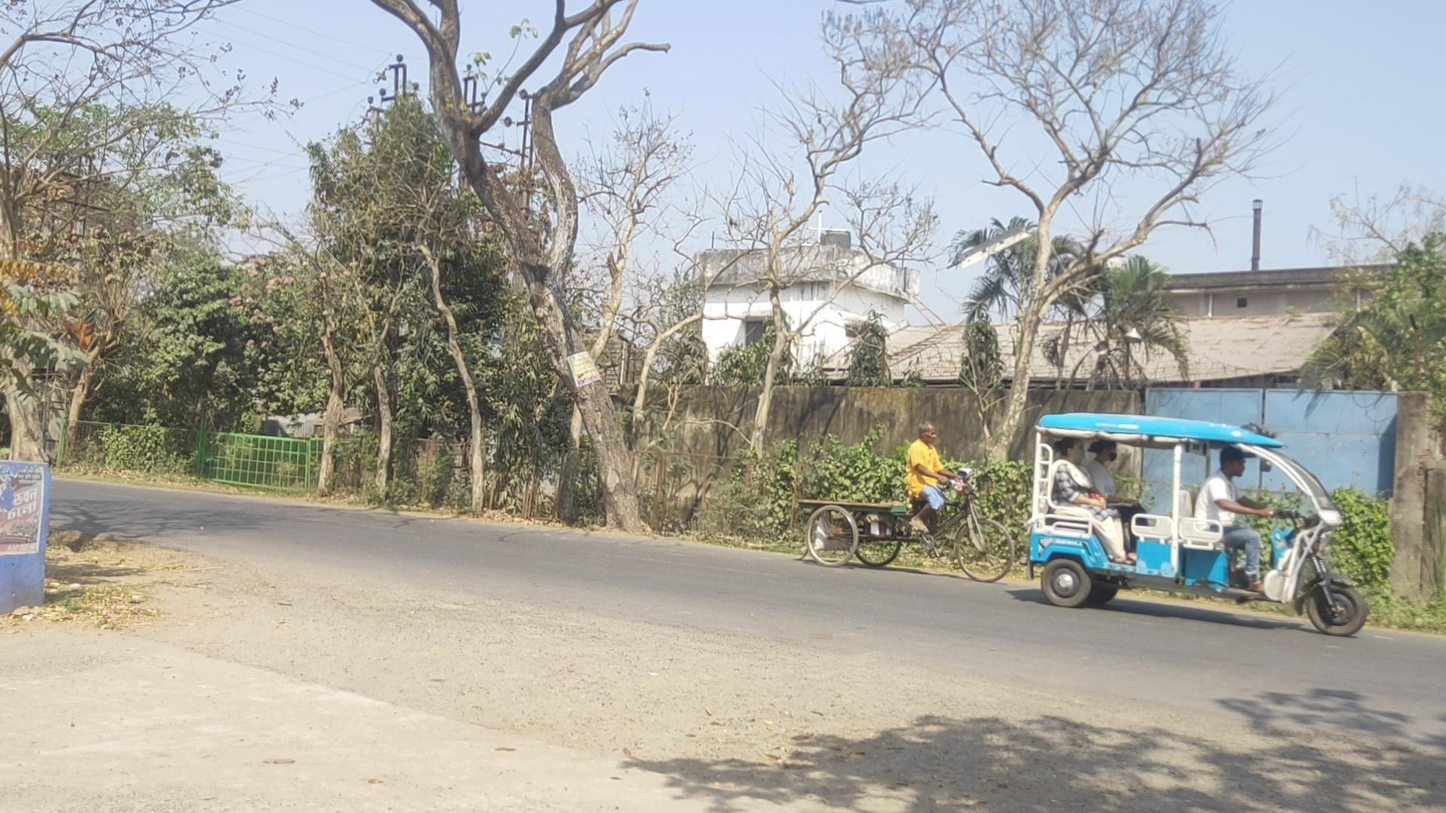Auto: (1028, 413, 1368, 637)
